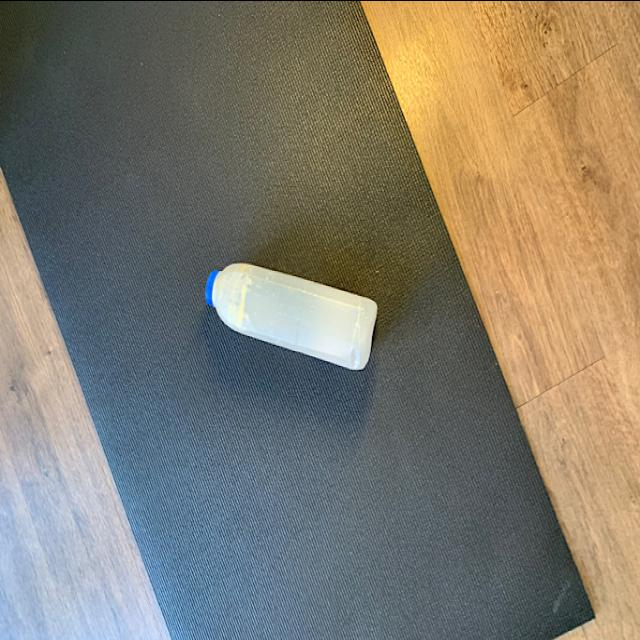litter: (206, 259, 380, 369)
